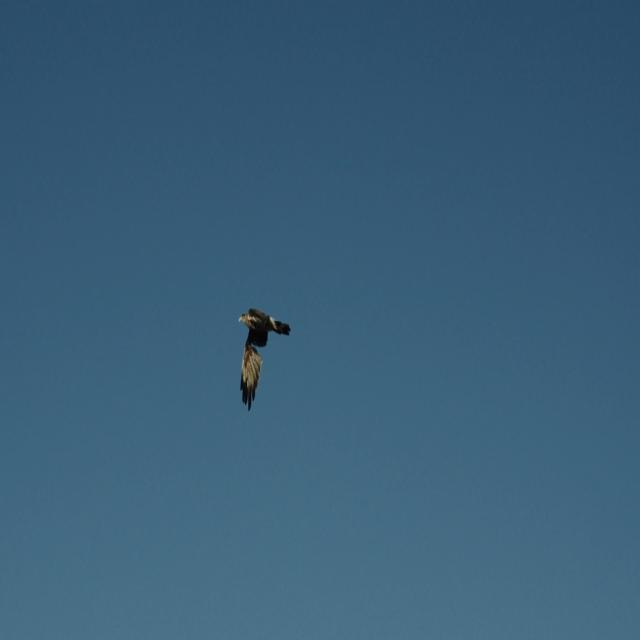bird: (231, 298, 298, 418)
